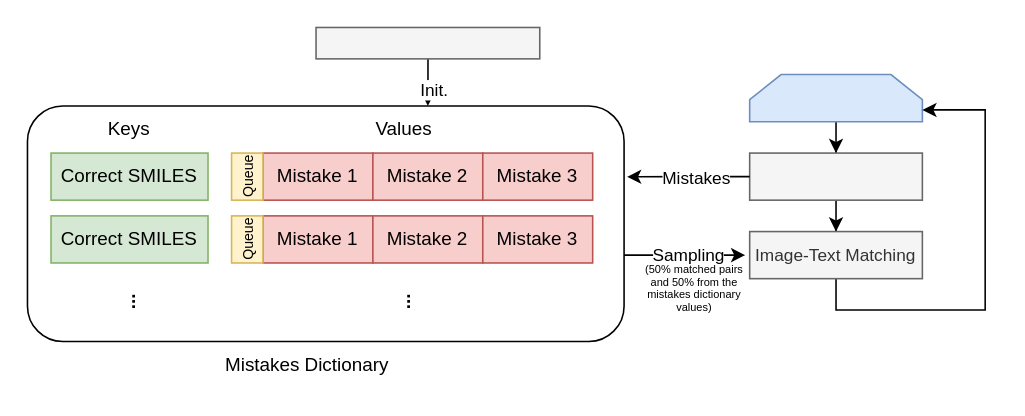
The diagram is 1025 pixels wide and 416 high, and some of its shapes have lost their labels. The centre of each missing label's shape, as x and y in pixels:
"Language Modeling" goes at point 835,176.
"Randomly Selected SMILES" goes at point 427,42.
"Training Loop" goes at point 835,97.
